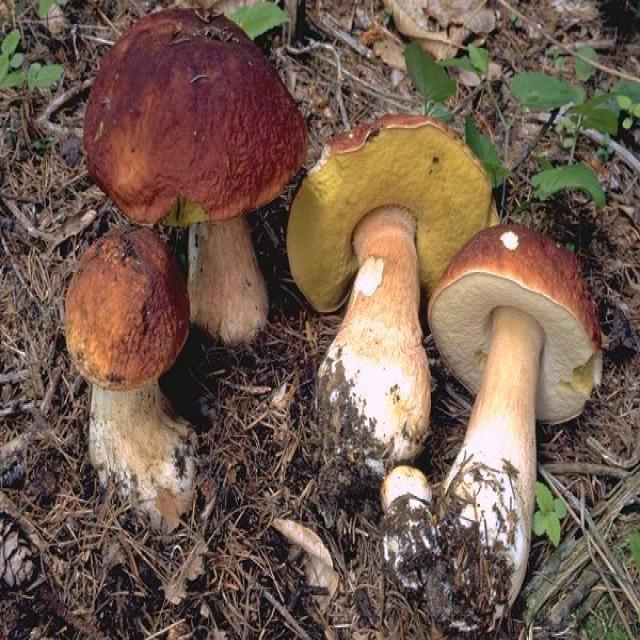Boletus: (85, 12, 307, 348), (287, 120, 498, 454), (427, 225, 599, 633), (68, 229, 199, 523)
